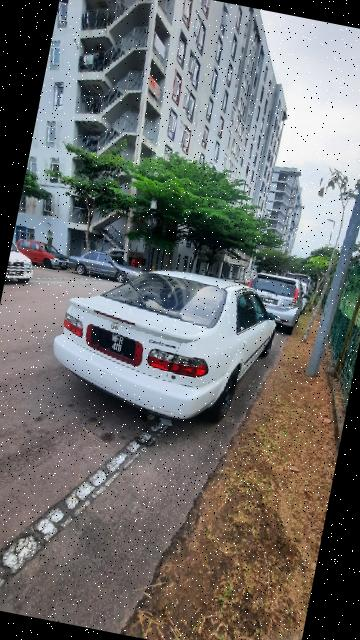License_Plate: (86, 327, 141, 364)
car: (42, 245, 296, 442)
